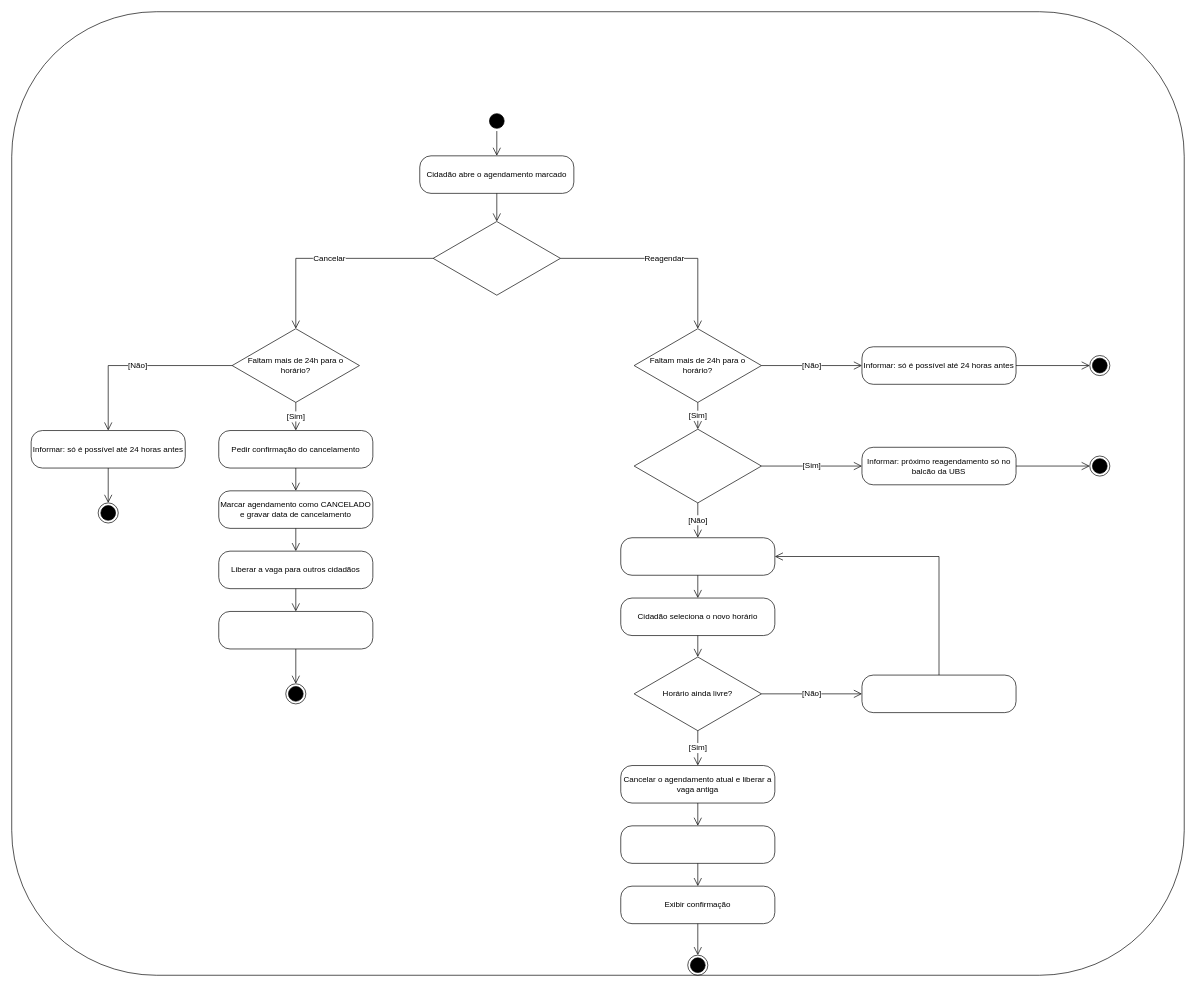
Some shapes in this 1196 by 988 pixel diagram are drawn without their labels. Each missing label, with the centre of its shape:
Criar novo agendamento apontando para o anterior e ocupar a nova vaga: (x=697, y=844)
Encaminhamento volta para AGUARDANDO_AGENDAMENTO e registra histórico: (x=295, y=630)
Escolhe reagendar ou cancelar?: (x=496, y=258)
Exibir horários livres da especialidade na unidade de destino: (x=697, y=556)
Informar que o horário não está mais disponível: (x=938, y=693)
Já houve 2 reagendamentos?: (x=697, y=466)
